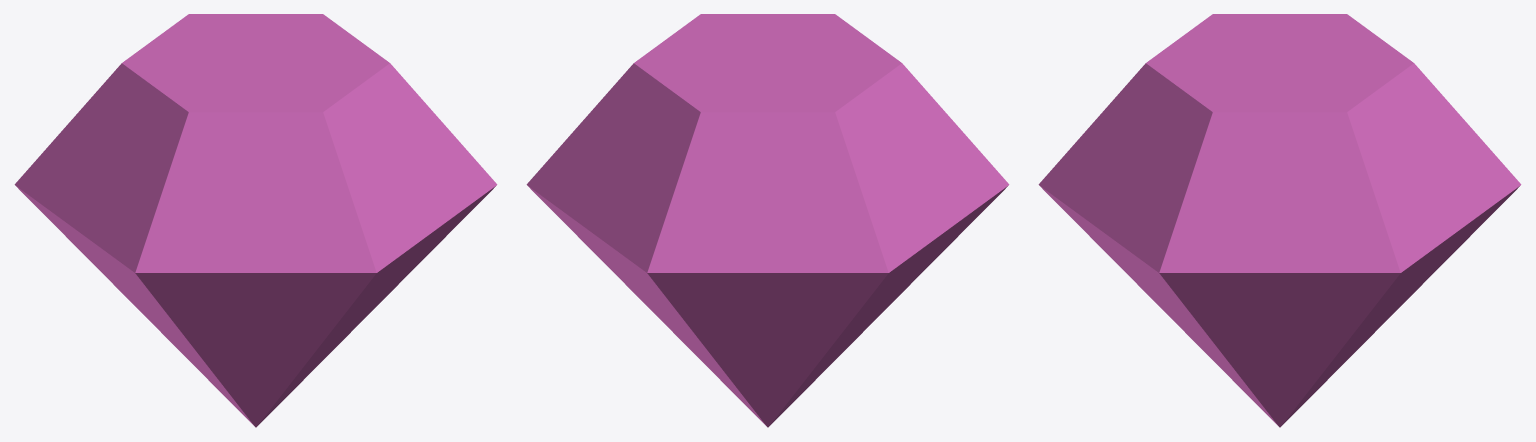
The model's file is gelatin_crystal.glb.
3 views of the same model, side by side, from view 1: azimuth 30°, elevation 25°; view 2: azimuth 150°, elevation 25°; view 3: azimuth 270°, elevation 25° (orthographic).
Parts seen in each view (by area): view 1: gelatin_crystal_v0; view 2: gelatin_crystal_v0; view 3: gelatin_crystal_v0.
Part boxes in pixels (x1,y1,x2,y2): gelatin_crystal_v0: [14, 14, 497, 427]; gelatin_crystal_v0: [526, 14, 1009, 427]; gelatin_crystal_v0: [1038, 14, 1521, 427].
Size of the model in its own units: 0.1559 by 0.15 by 0.18.
